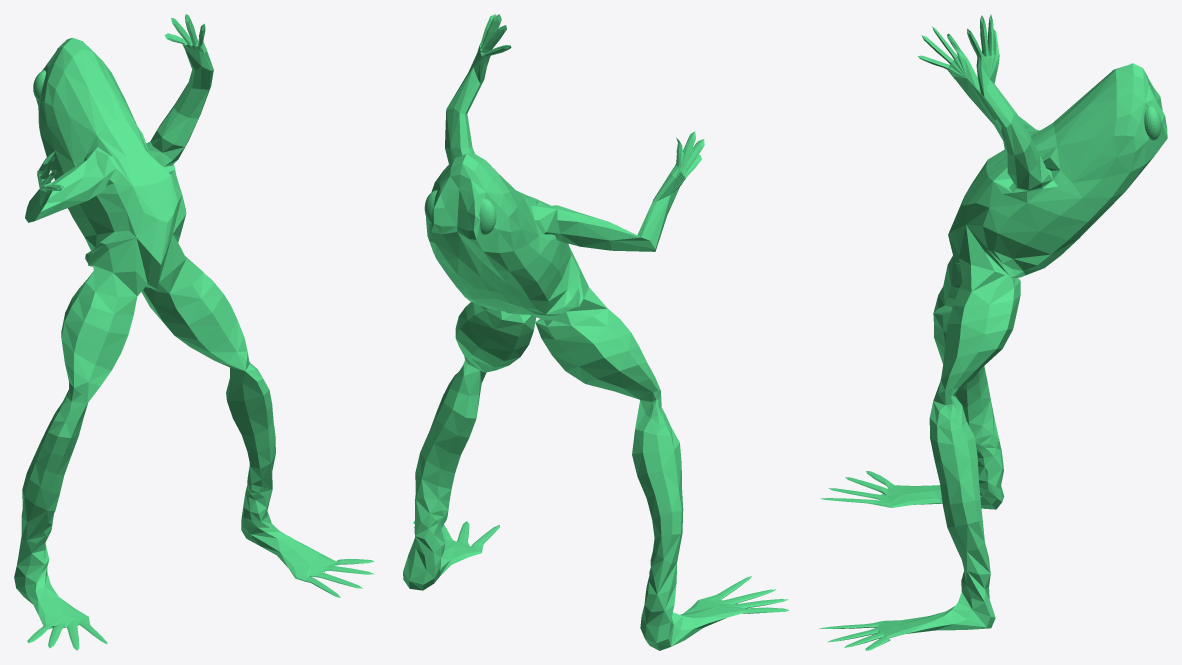
The model's file is éco.obj.
3 views of the same model, side by side, from view 1: azimuth 30°, elevation 25°; view 2: azimuth 150°, elevation 25°; view 3: azimuth 270°, elevation 25° (orthographic). The views are drawn at different scales.
Bounding box in the file's own units: 30.49 × 46.02 × 25.35.
